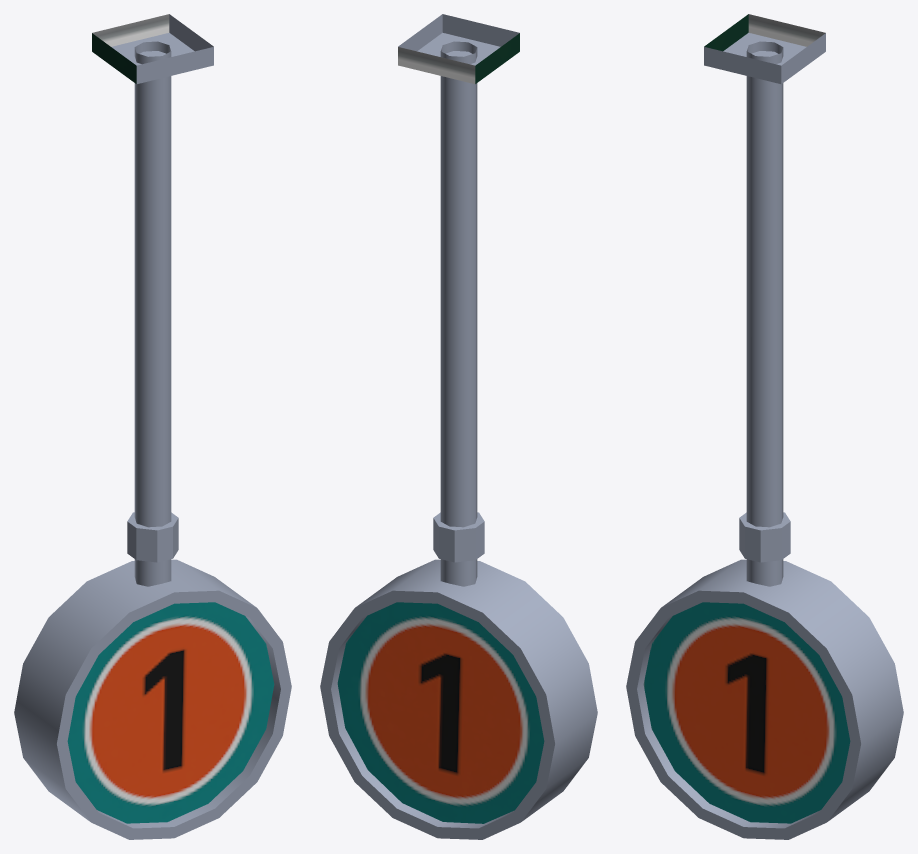
The model's file is PlatformNumberBoard.fbx.
3 renders of one model, left to right at view 1: azimuth 30°, elevation 25°; view 2: azimuth 150°, elevation 25°; view 3: azimuth 330°, elevation 25°, orthographic.
Visible parts, largest first — view 1: PlatformNumberBoard; view 2: PlatformNumberBoard; view 3: PlatformNumberBoard.
Boxes of the visible parts, x1,y1,x2,y2 form: PlatformNumberBoard: (14, 14, 291, 839); PlatformNumberBoard: (320, 14, 597, 839); PlatformNumberBoard: (626, 14, 903, 839).
Size of the model in its own units: 0.8635 by 2.75 by 0.2846.
